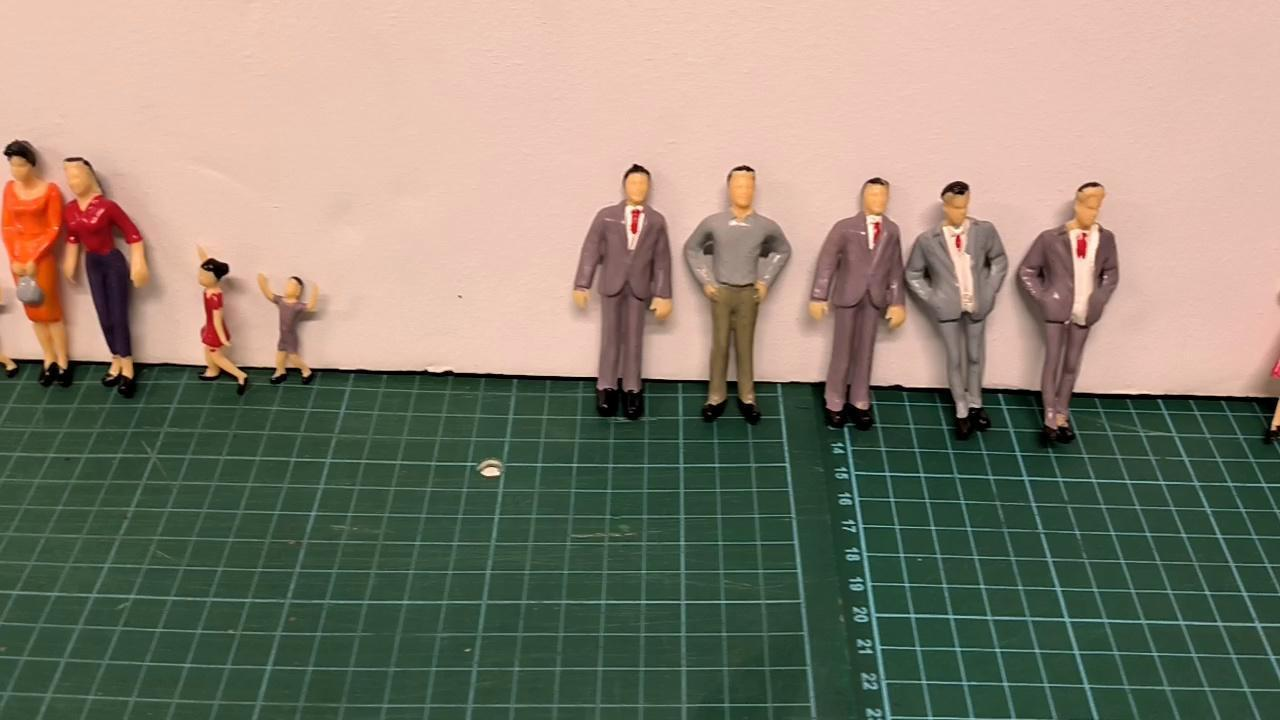human: (1013, 172, 1128, 465), (680, 153, 795, 437), (564, 155, 675, 424), (905, 172, 1007, 450), (809, 157, 905, 432), (54, 150, 152, 403), (0, 119, 74, 391), (183, 237, 258, 396), (250, 263, 332, 393), (59, 136, 60, 139)
